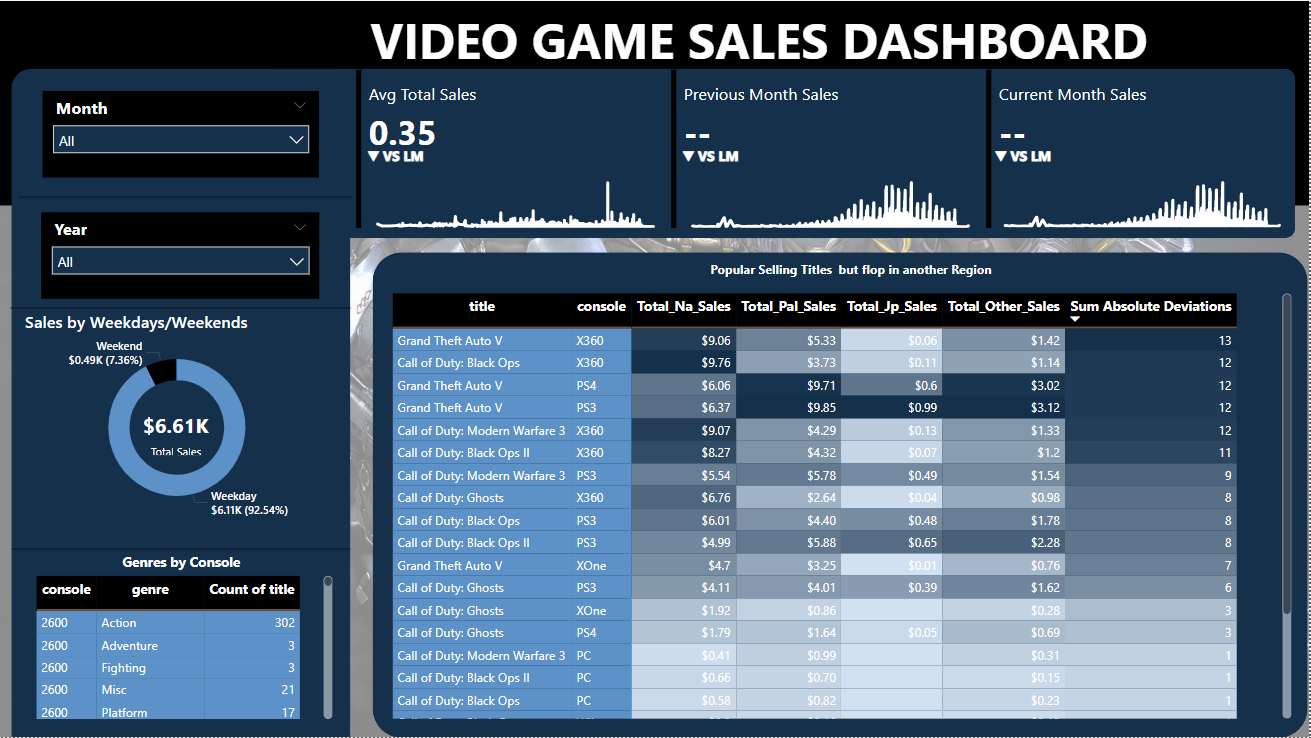

The page's visual inventory and layout, read from the dashboard file:
{"tool":"powerbi","page":{"name":"Duplicate of Dashboard ","canvas":[1280,720],"ordinal":3},"visuals":[{"type":"shape","box":[364.9,245.6,914.8,475.2],"z":0},{"type":"shape","box":[0,0,1400,200],"z":1000},{"type":"shape","box":[261,66.1,1006.8,166.1],"z":2000},{"type":"shape","box":[11.5,66.4,331.8,715.6],"z":3000},{"type":"textbox","box":[354.9,0,789.2,82.2],"z":4000},{"type":"cardVisual","fields":{"Data":["MEASURE.Avg Total Sales"]},"box":[344.1,62.7,299.8,165.7],"z":4000,"group":"g1"},{"type":"cardVisual","fields":{"Data":["MEASURE.Previous Month Sales"]},"box":[651.7,62.7,299.8,165.7],"z":4000,"group":"g2"},{"type":"cardVisual","fields":{"Data":["MEASURE.Current Month Sales"]},"box":[959.3,62.7,299.8,165.7],"z":4000,"group":"g3"},{"type":"shape","box":[18.6,172.9,325.4,39],"z":5000},{"type":"group","id":"g1","title":"Group 1","box":[344.1,62.7,310.2,166.1],"z":6000},{"type":"lineChart","fields":{"Y":["MEASURE.Avg Total Sales"],"Category":["DATE_TABLE.Date Hierarchy.Date"]},"box":[355.1,141.6,299.8,85.2],"z":6000,"group":"g1"},{"type":"lineChart","fields":{"Y":["MEASURE.Previous Month Sales"],"Category":["DATE_TABLE.Date Hierarchy.Date"]},"box":[662.7,141.6,299.8,85.2],"z":6000,"group":"g2"},{"type":"lineChart","fields":{"Category":["DATE_TABLE.Date Hierarchy.Date"],"Y":["MEASURE.Current Month Sales"]},"box":[967.8,142.4,298.3,84.7],"z":6000,"group":"g3"},{"type":"group","id":"g2","title":"Group 1","box":[651.7,62.7,310.2,166.1],"z":7000},{"type":"group","id":"g3","title":"Group 1","box":[959.3,62.7,306.8,165.7],"z":8000},{"type":"tableEx","title":"Yearly Sales Trend","fields":{"Values":["vgchartz-2024.console","vgchartz-2024.genre","Count(vgchartz-2024.title)"]},"box":[29.8,557.1,301.2,150],"z":9000},{"type":"shape","box":[10.1,284.2,333.3,33.2],"z":10000},{"type":"shape","box":[11.5,516.5,331.8,40.4],"z":11000},{"type":"slicer","fields":{"Values":["DATE_TABLE.Month"]},"box":[41.5,87.7,270.8,84.6],"z":12000},{"type":"slicer","fields":{"Values":["DATE_TABLE.Year"]},"box":[40,206.2,272.3,84.6],"z":13000},{"type":"tableEx","fields":{"Values":["vgchartz-2024.title","vgchartz-2024.console","MEASURE.Total_Na_Sales","MEASURE.Total_Pal_Sales","MEASURE.Total_Jp_Sales","MEASURE.Total_Other_Sales","MEASURE.Sum Absolute Deviations"]},"box":[377.4,281,890.5,426.2],"z":14000},{"type":"textbox","box":[663.1,248.8,342.9,32.1],"z":15000},{"type":"donutChart","title":"Sales by Weekdays/Weekends","fields":{"Category":["DATE_TABLE.Weekdays/Weekends"],"Y":["MEASURE.Total Sales"]},"box":[20,301.8,307.3,209.1],"z":16000},{"type":"card","fields":{"Values":["MEASURE.Total Sales"]},"box":[125.5,398.2,92.7,50.9],"z":17000},{"type":"textbox","box":[109.5,534.5,134.5,33.3],"z":18000}]}

Visuals, with their boxes in screenshot pixels (x1, y1, x2, y2), scaled from the page's 1280x720 canvas onto the 1311x738 screenshot:
shape: (x1=374, y1=252, x2=1310, y2=737)
shape: (x1=0, y1=0, x2=1310, y2=205)
shape: (x1=267, y1=68, x2=1299, y2=238)
shape: (x1=12, y1=68, x2=352, y2=737)
textbox: (x1=363, y1=0, x2=1172, y2=84)
cardVisual - MEASURE.Avg Total Sales: (x1=352, y1=64, x2=659, y2=234)
cardVisual - MEASURE.Previous Month Sales: (x1=667, y1=64, x2=975, y2=234)
cardVisual - MEASURE.Current Month Sales: (x1=983, y1=64, x2=1290, y2=234)
shape: (x1=19, y1=177, x2=352, y2=217)
"Group 1" group: (x1=352, y1=64, x2=670, y2=235)
lineChart - MEASURE.Avg Total Sales x DATE_TABLE.Date Hierarchy.Date: (x1=364, y1=145, x2=671, y2=232)
lineChart - MEASURE.Previous Month Sales x DATE_TABLE.Date Hierarchy.Date: (x1=679, y1=145, x2=986, y2=232)
lineChart - DATE_TABLE.Date Hierarchy.Date x MEASURE.Current Month Sales: (x1=991, y1=146, x2=1297, y2=233)
"Group 1" group: (x1=667, y1=64, x2=985, y2=235)
"Group 1" group: (x1=983, y1=64, x2=1297, y2=234)
"Yearly Sales Trend" tableEx: (x1=31, y1=571, x2=339, y2=725)
shape: (x1=10, y1=291, x2=352, y2=325)
shape: (x1=12, y1=529, x2=352, y2=571)
slicer - DATE_TABLE.Month: (x1=43, y1=90, x2=320, y2=177)
slicer - DATE_TABLE.Year: (x1=41, y1=211, x2=320, y2=298)
tableEx - vgchartz-2024.title x vgchartz-2024.console: (x1=387, y1=288, x2=1299, y2=725)
textbox: (x1=679, y1=255, x2=1030, y2=288)
"Sales by Weekdays/Weekends" donutChart: (x1=20, y1=309, x2=335, y2=524)
card - MEASURE.Total Sales: (x1=129, y1=408, x2=223, y2=460)
textbox: (x1=112, y1=548, x2=250, y2=582)
